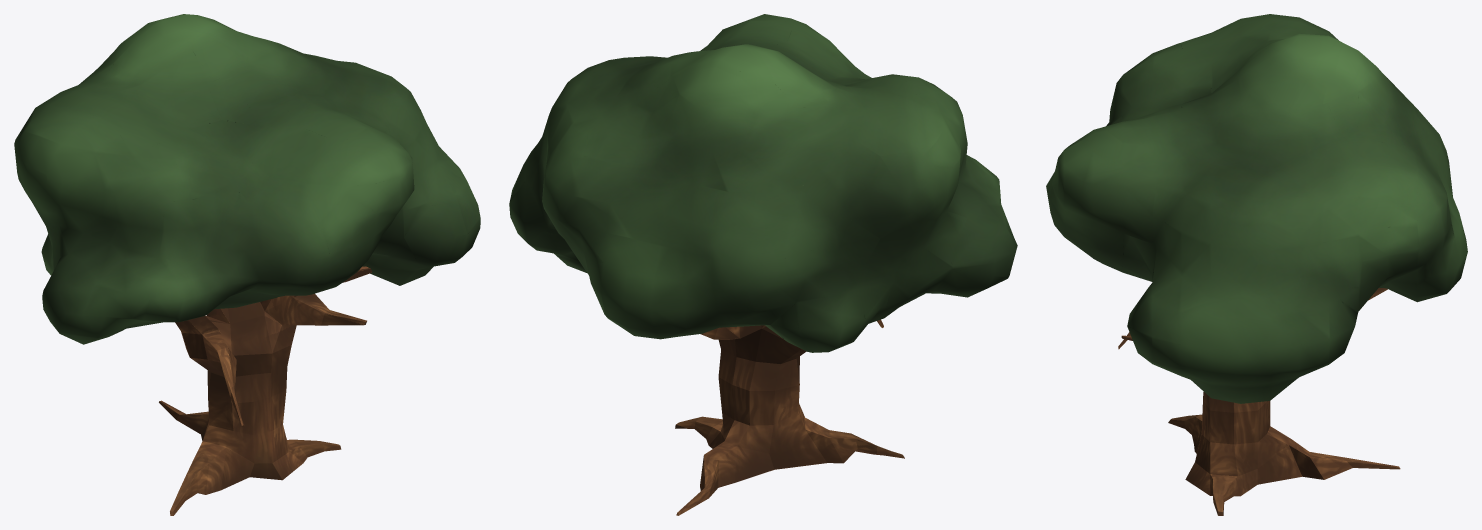
File: Baum1_einzeln 1.fbx
3 views of the same model, side by side, from view 1: azimuth 30°, elevation 25°; view 2: azimuth 150°, elevation 25°; view 3: azimuth 270°, elevation 25° (orthographic). The views are drawn at different scales.
Parts seen in each view (by area): view 1: Mball.021, Cube; view 2: Mball.021, Cube; view 3: Mball.021, Cube.
Part boxes in pixels (box(x1,y1,x2,y2)): Mball.021: box(14, 14, 480, 344); Cube: box(159, 266, 372, 515); Mball.021: box(509, 14, 1017, 352); Cube: box(675, 319, 904, 515); Mball.021: box(1046, 14, 1467, 403); Cube: box(1118, 288, 1400, 515).
Bounding box in the file's own units: 1055 × 978 × 889.
